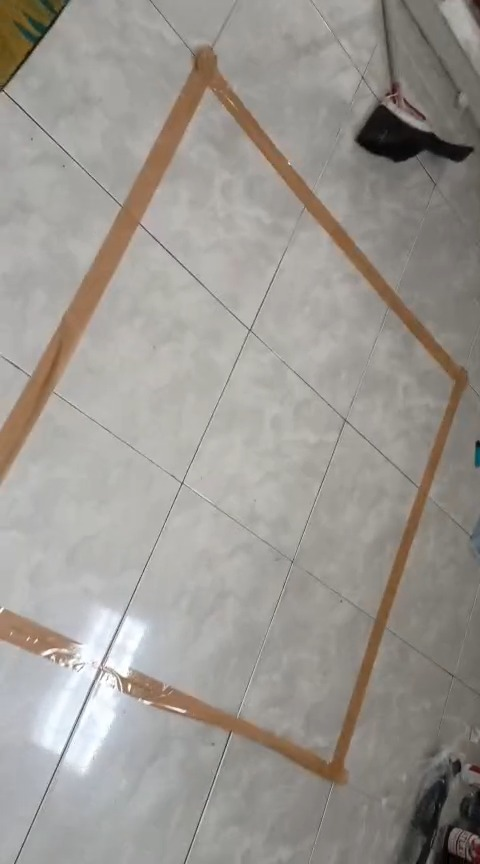floor marking: (0, 47, 467, 782)
